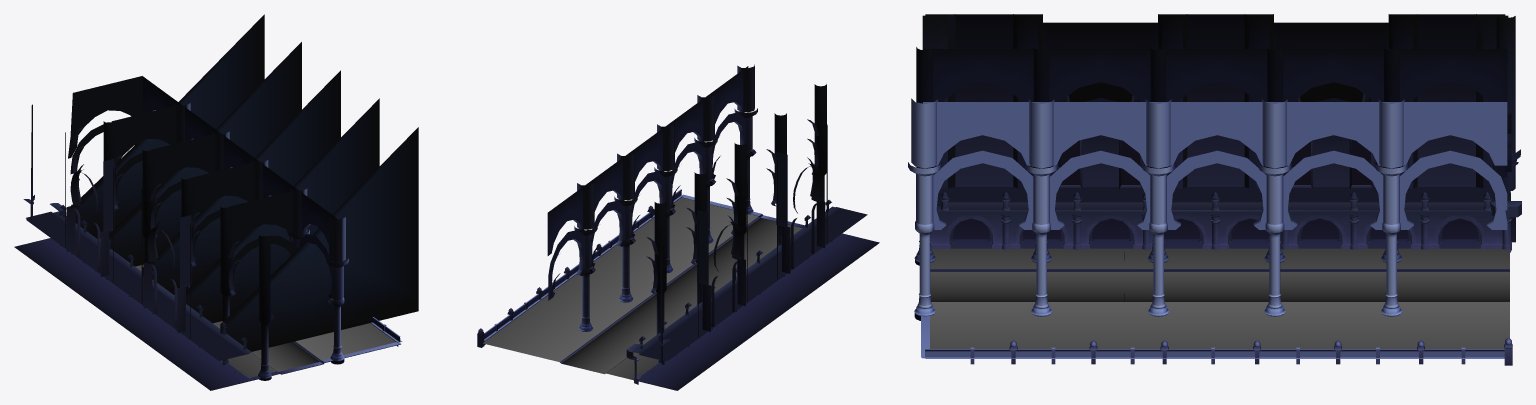
Rendered from NPBoss.gltf.
3 renders of one model, left to right at view 1: azimuth 30°, elevation 25°; view 2: azimuth 150°, elevation 25°; view 3: azimuth 270°, elevation 25°, orthographic. The views are drawn at different scales.
Visible parts, largest first — view 1: stg073_k2_Mesh_0000, stg073_o_Mesh_0000, stg073_o_Mesh_0028, stg073_o_Mesh_0011, stg073_w_Mesh_0000, stg073_o_Mesh_0039, stg073_o_Mesh_0035, stg073_o_Mesh_0044; view 2: stg073_o_Mesh_0000, stg073_w_Mesh_0000, stg073_o_Mesh_0028, stg073_o_Mesh_0011, stg073_o_Mesh_0044, stg073_o_Mesh_0035, stg073_o_Mesh_0039, stg073_o_Mesh_0022, stg073_o_Mesh_0053, stg073_o_Mesh_0019, stg073_p_Mesh_0000; view 3: stg073_w_Mesh_0000, stg073_o_Mesh_0028, stg073_o_Mesh_0011, stg073_o_Mesh_0000, stg073_o_Mesh_0039, stg073_o_Mesh_0035, stg073_o_Mesh_0044, stg073_p_Mesh_0000, stg073_o_Mesh_0038, stg073_o_Mesh_0022, stg073_o_Mesh_0053, stg073_p_Mesh_0001 (+4 smaller).
Boxes of the visible parts, x1,y1,x2,y2 form: stg073_k2_Mesh_0000: (66,14,418,351); stg073_o_Mesh_0000: (14,101,386,390); stg073_o_Mesh_0028: (50,76,343,364); stg073_o_Mesh_0011: (26,101,400,390); stg073_w_Mesh_0000: (100,239,395,378); stg073_o_Mesh_0039: (103,159,191,284); stg073_o_Mesh_0035: (30,104,340,363); stg073_o_Mesh_0044: (31,110,310,362); stg073_o_Mesh_0000: (477,64,879,390); stg073_w_Mesh_0000: (483,197,802,380); stg073_o_Mesh_0028: (547,66,839,353); stg073_o_Mesh_0011: (477,92,879,376); stg073_o_Mesh_0044: (550,102,819,362); stg073_o_Mesh_0035: (582,124,827,378); stg073_o_Mesh_0039: (697,152,787,281); stg073_o_Mesh_0022: (560,115,828,384); stg073_o_Mesh_0053: (484,189,682,345); stg073_o_Mesh_0019: (574,108,828,363); stg073_p_Mesh_0000: (484,191,681,338); stg073_w_Mesh_0000: (922,248,1509,357); stg073_o_Mesh_0028: (916,14,1521,295); stg073_o_Mesh_0011: (914,69,1521,358); stg073_o_Mesh_0000: (911,47,1517,365); stg073_o_Mesh_0039: (952,91,1515,242); stg073_o_Mesh_0035: (919,14,1515,292); stg073_o_Mesh_0044: (936,22,1521,241); stg073_p_Mesh_0000: (925,351,1504,357); stg073_o_Mesh_0038: (948,202,1484,209); stg073_o_Mesh_0022: (911,166,1515,271); stg073_o_Mesh_0053: (925,349,1504,358); stg073_p_Mesh_0001: (1061,139,1370,184).
Bounding box in the file's own units: 61.45 × 46.81 × 91.85.
